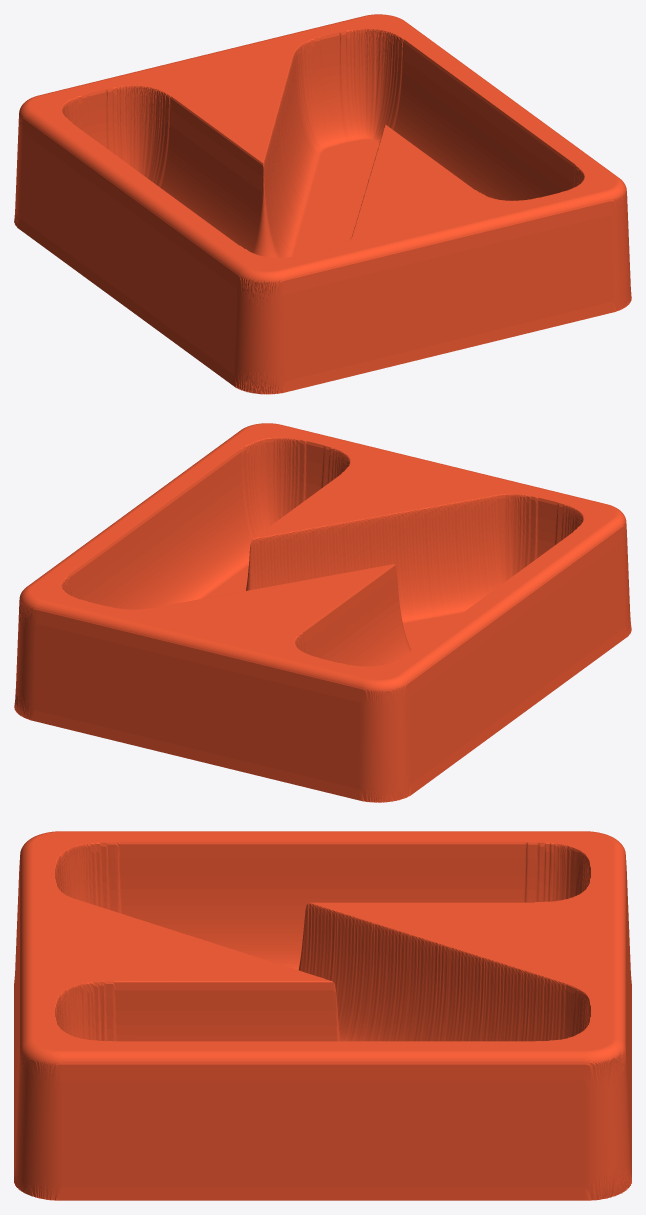
File: mold.glb
3 renders of one model, top to bottom at view 1: azimuth 30°, elevation 25°; view 2: azimuth 150°, elevation 25°; view 3: azimuth 270°, elevation 25°, orthographic. The views are drawn at different scales.
Parts seen in each view (by area): view 1: geometry_0; view 2: geometry_0; view 3: geometry_0.
Part boxes in pixels (x1,y1,x2,y2): geometry_0: (14,14,631,394); geometry_0: (14,423,631,802); geometry_0: (14,831,631,1200).
Bounding box in the file's own units: 0.1056 × 0.0299 × 0.1178.
